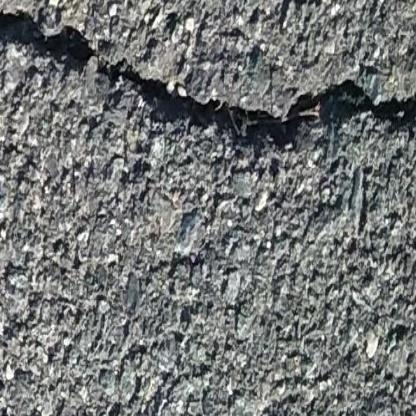Cracks: (0, 8, 416, 169)
